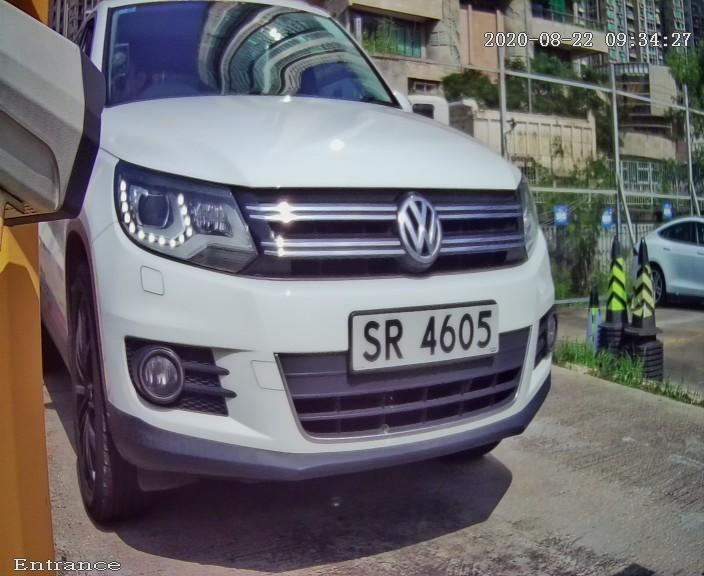Car: (7, 8, 617, 523)
License Plate: (337, 294, 503, 379)
